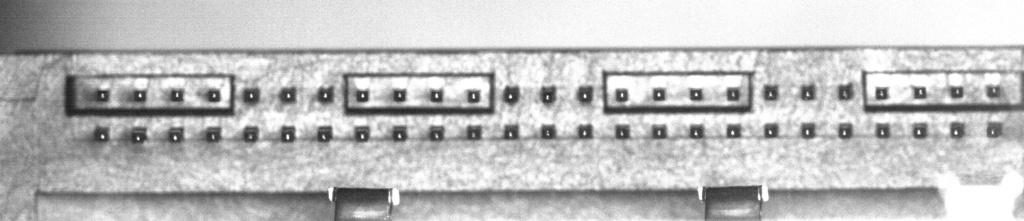pin_ok: (540, 85, 557, 103), (985, 121, 1003, 138), (317, 85, 334, 102), (503, 85, 519, 103), (280, 127, 297, 143), (279, 86, 296, 102), (130, 127, 146, 144), (577, 85, 593, 102), (316, 127, 332, 143), (243, 126, 259, 142), (205, 126, 221, 142), (912, 122, 928, 138), (875, 122, 891, 138), (838, 83, 853, 100), (242, 87, 259, 102), (763, 85, 779, 100), (800, 84, 815, 100), (354, 126, 370, 141), (429, 125, 444, 141), (168, 127, 184, 142), (392, 126, 408, 141), (467, 124, 482, 140), (614, 124, 630, 139), (540, 124, 556, 139), (764, 122, 779, 138), (985, 84, 1002, 98), (95, 127, 110, 142), (838, 123, 853, 138), (578, 124, 593, 139), (726, 123, 741, 138), (950, 123, 965, 138), (503, 125, 518, 139), (689, 124, 703, 139), (726, 87, 741, 101), (652, 124, 667, 138), (801, 123, 815, 138), (207, 88, 222, 102), (614, 88, 629, 102), (169, 88, 183, 102), (355, 88, 369, 102), (467, 89, 481, 103), (950, 85, 964, 99), (689, 87, 703, 101), (913, 85, 927, 99), (430, 88, 444, 102), (652, 87, 666, 101), (392, 88, 407, 101), (874, 86, 889, 99), (96, 88, 110, 101), (133, 89, 146, 102)
